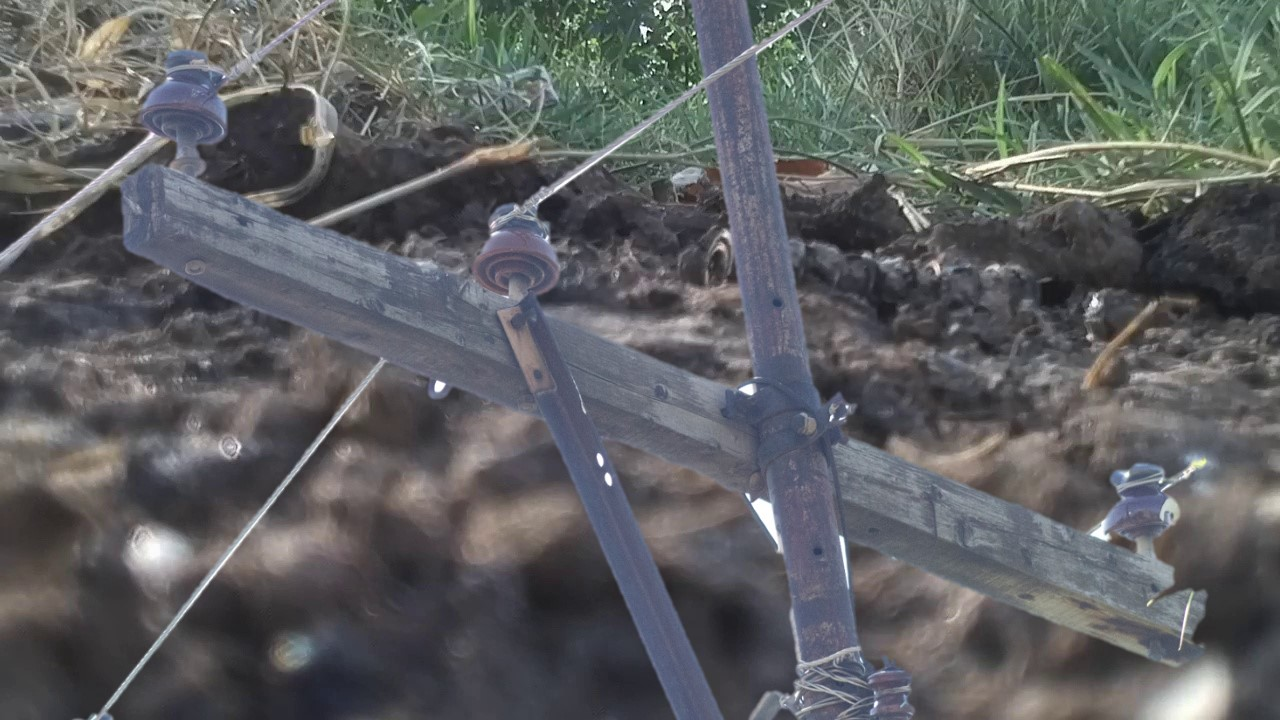defect_pin: (1100, 455, 1185, 548)
insulator_pin: (472, 195, 569, 298), (141, 47, 232, 152)
